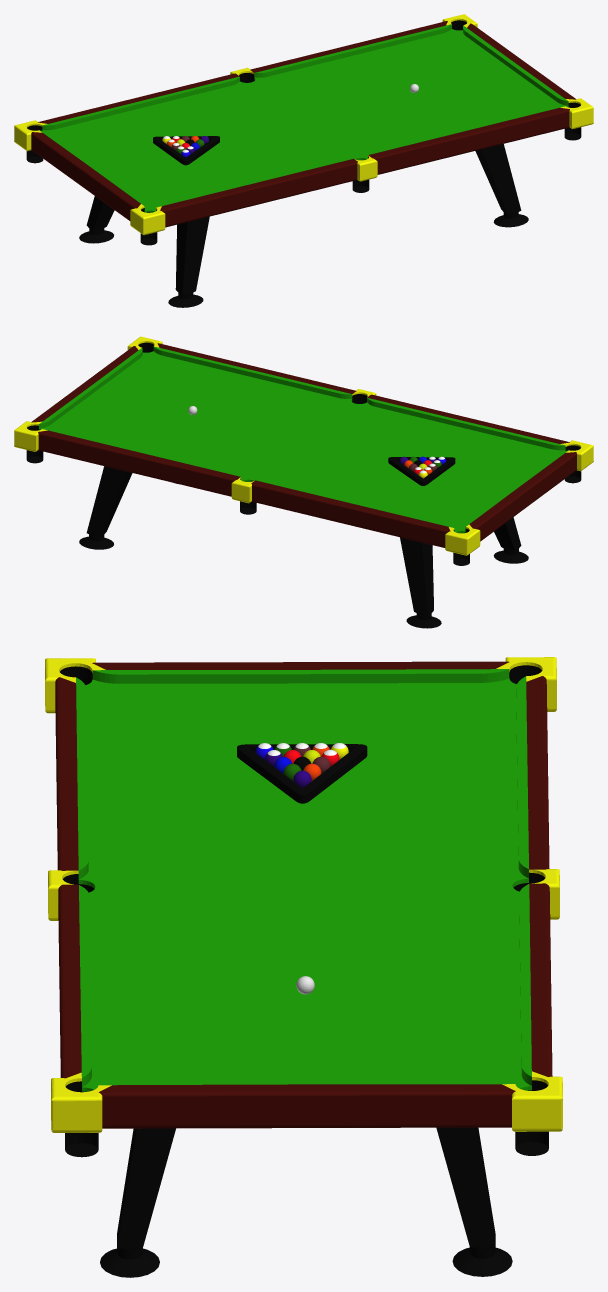
Rendered from billar.gltf.
3 renders of one model, top to bottom at view 1: azimuth 30°, elevation 25°; view 2: azimuth 150°, elevation 25°; view 3: azimuth 270°, elevation 25°, orthographic. The views are drawn at different scales.
Visible parts, largest first — view 1: Mesa Billar, PortaBolas; view 2: Mesa Billar, PortaBolas; view 3: Mesa Billar, PortaBolas.
Part boxes in pixels (x1,y1,x2,y2): Mesa Billar: [14, 14, 593, 307]; PortaBolas: [153, 136, 219, 165]; Mesa Billar: [14, 336, 593, 628]; PortaBolas: [388, 457, 455, 485]; Mesa Billar: [45, 657, 562, 1277]; PortaBolas: [237, 744, 367, 803].
Bounding box in the file's own units: 102 × 25.21 × 50.62.
